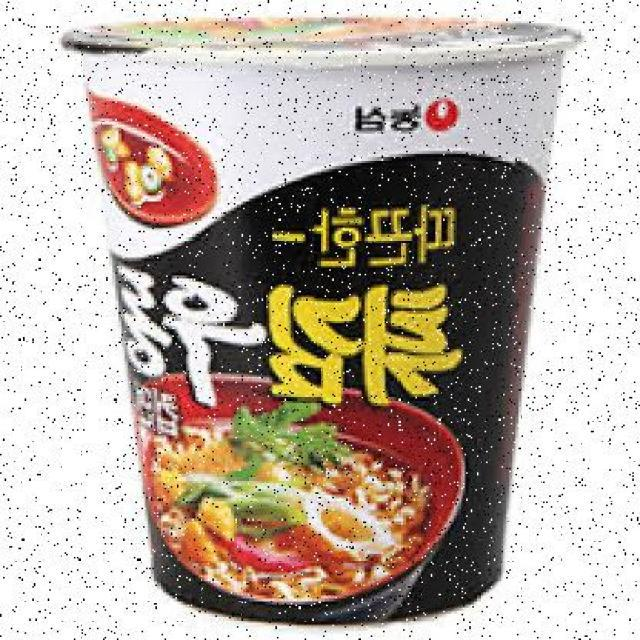Miscellaneous: (48, 1, 580, 634)
